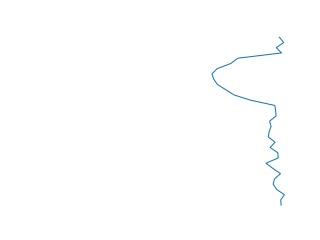distalBar: (205, 36, 290, 209)
